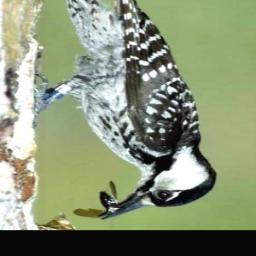Woodpecker: (32, 0, 216, 222)
